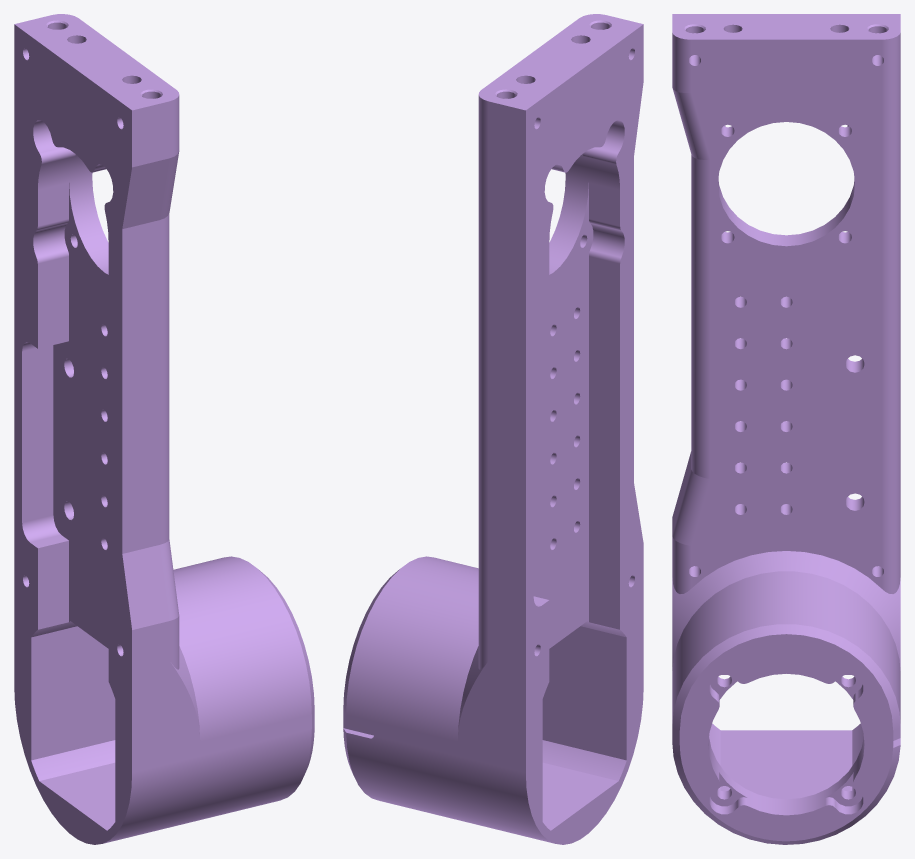
The model's file is Main_CaseJoint_5_2.001.dae.
3 renders of one model, left to right at view 1: azimuth 30°, elevation 25°; view 2: azimuth 150°, elevation 25°; view 3: azimuth 270°, elevation 25°, orthographic. The views are drawn at different scales.
Parts seen in each view (by area): view 1: Main_CaseJoint_5_2.000; view 2: Main_CaseJoint_5_2.000; view 3: Main_CaseJoint_5_2.000.
Boxes of the visible parts, box(x1,y1,x2,y2) form: Main_CaseJoint_5_2.000: box(14, 14, 314, 844); Main_CaseJoint_5_2.000: box(343, 14, 643, 844); Main_CaseJoint_5_2.000: box(672, 14, 900, 844).
Bounding box in the file's own units: 0.0274 × 0.03 × 0.108.
